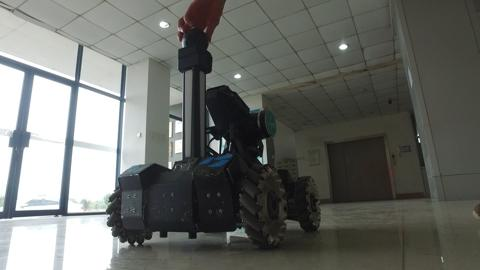chariot: (95, 34, 328, 255)
